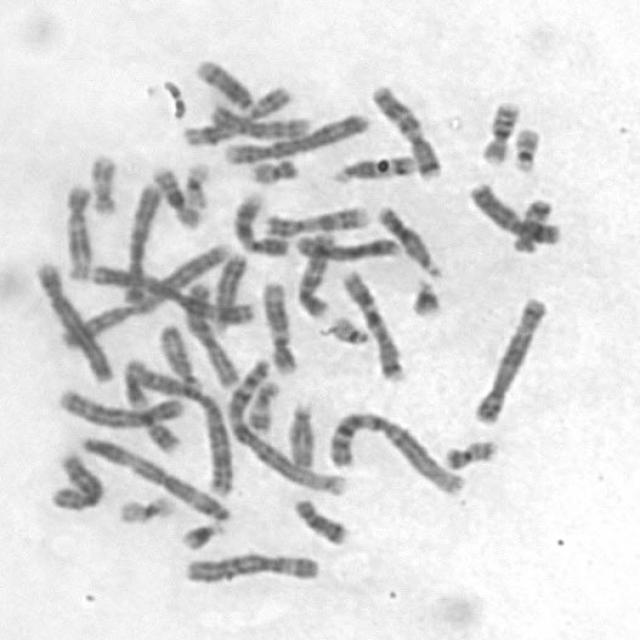A1: (223, 355, 350, 497), (323, 404, 470, 497)
A2: (54, 238, 240, 350), (121, 355, 237, 497)
A3: (74, 431, 234, 524), (81, 260, 258, 326)
B4: (28, 256, 115, 386), (218, 106, 372, 166)
B5: (468, 291, 550, 427), (54, 383, 188, 429)
C10: (291, 226, 339, 320), (204, 100, 312, 141)
C11: (180, 82, 294, 148), (118, 351, 183, 456)
C12: (258, 276, 301, 375), (58, 178, 96, 283)
C6: (120, 178, 168, 306), (179, 546, 323, 586)
C7: (334, 264, 408, 384), (366, 78, 446, 182)
C8: (46, 446, 108, 513), (287, 230, 402, 262)
C9: (228, 186, 292, 258), (260, 200, 373, 238)
D13: (372, 200, 444, 280), (206, 248, 249, 332)
D14: (190, 53, 256, 111), (327, 149, 419, 186)
D15: (153, 318, 203, 389), (283, 396, 317, 471)
E16: (147, 162, 204, 230), (475, 96, 522, 166)
E17: (85, 148, 121, 218), (243, 375, 282, 434)
E18: (289, 492, 352, 547), (508, 191, 556, 254)
F19: (113, 488, 178, 526), (178, 156, 212, 212)
F20: (438, 434, 502, 471), (245, 153, 302, 185)
G21: (175, 516, 228, 551), (406, 273, 446, 318)
G22: (508, 121, 544, 175), (324, 310, 373, 346)
X: (180, 276, 244, 389), (462, 176, 564, 246)
